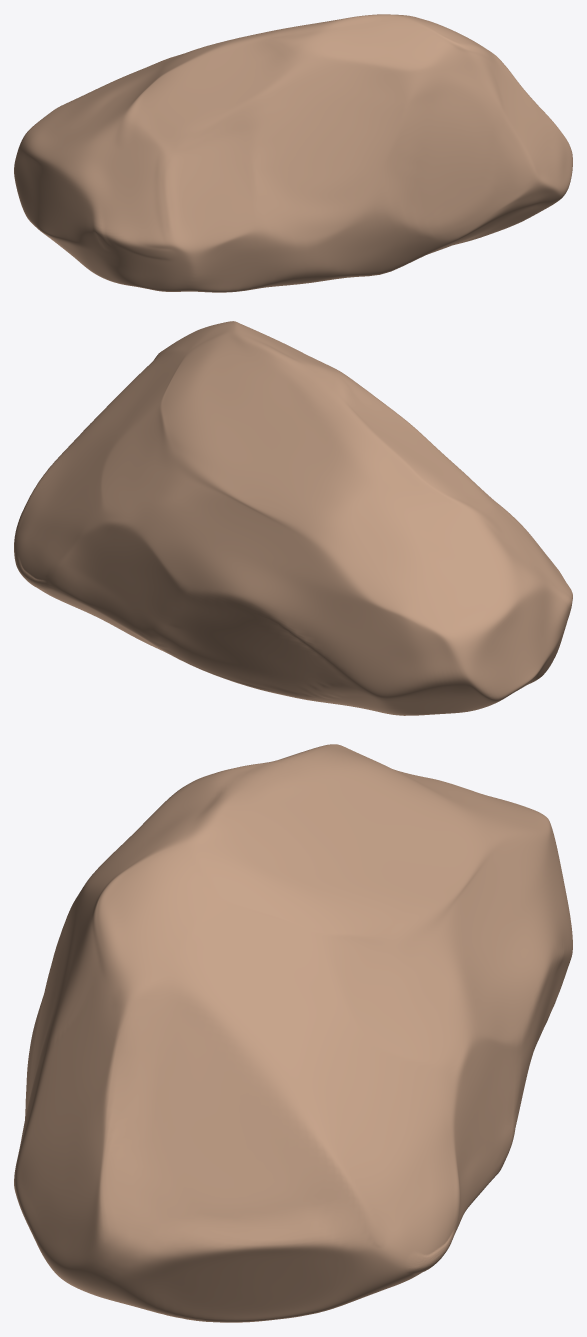
Rendered from Rock2_HP.FBX.
3 views of the same model, one above another, from view 1: azimuth 30°, elevation 25°; view 2: azimuth 150°, elevation 25°; view 3: azimuth 270°, elevation 25° (orthographic). The views are drawn at different scales.
Visible parts, largest first — view 1: Box003; view 2: Box003; view 3: Box003.
Part boxes in pixels (bbox=[...]): Box003: bbox=[14, 14, 572, 292]; Box003: bbox=[14, 321, 572, 715]; Box003: bbox=[14, 744, 572, 1322].
Bounding box in the file's own units: 125 × 61.94 × 75.23.
